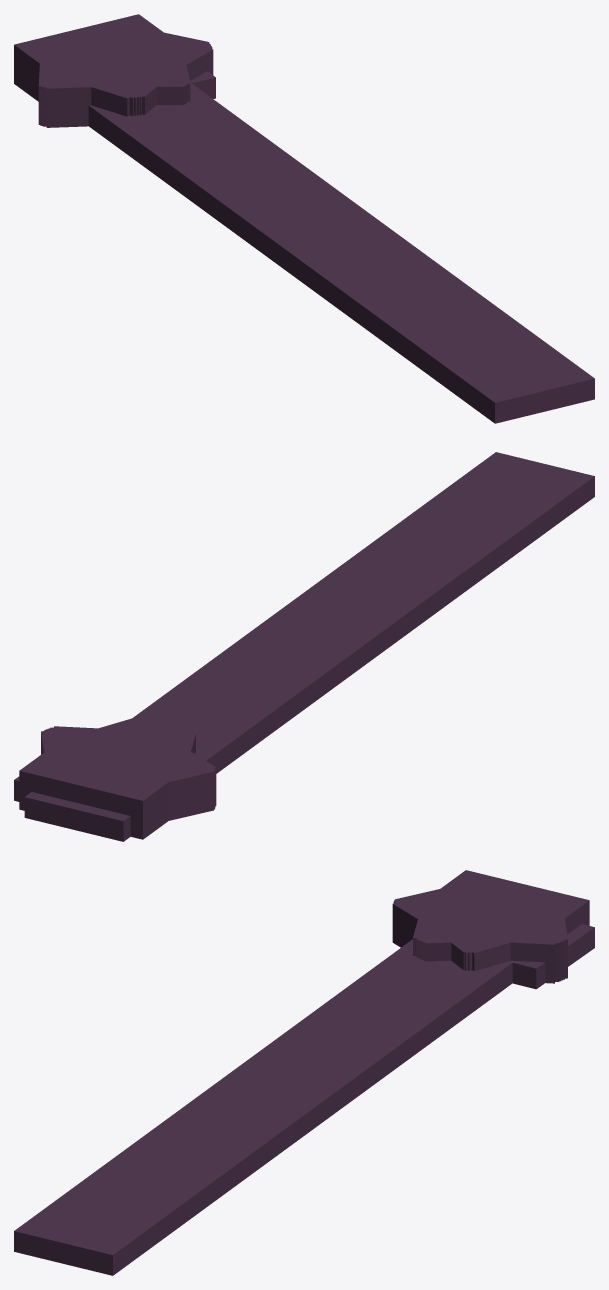
The model's file is GCC-AAV-13220-30(12).fbx.
The picture shows the model from 3 angles, top to bottom: view 1: azimuth 30°, elevation 25°; view 2: azimuth 150°, elevation 25°; view 3: azimuth 330°, elevation 25°; orthographic projection.
Visible parts, largest first — view 1: CTSTRA 1 of CTMTRL 1 of CWBRAN 4 of CWAY /13220-02-5200-EP-0, CTBEND 2 of CTMTRL 1 of CWBRAN 1 of CWAY /13220-02-5200-EM-0, CTBEND 5 of CTMTRL 1 of CWBRAN 1 of CWAY /13220-02-5200-EM-0, CTBEND 1 of CTMTRL 1 of CWBRAN 1 of CWAY /13220-02-5200-EM-0, CTBEND 7 of CTMTRL 1 of CWBRAN 1 of CWAY /13220-02-5200-EM-0, CTSTRA 2 of CTMTRL 1 of CWBRAN 4 of CWAY /13220-02-5200-EP-0, CTBEND 6 of CTMTRL 1 of CWBRAN 1 of CWAY /13220-02-5200-EM-0, CTBEND 6 of CTMTRL 1 of CWBRAN 3 of CWAY /13220-02-5200-EM-0, CTBEND 7 of CTMTRL 1 of CWBRAN 3 of CWAY /13220-02-5200-EM-0, CTBEND 4 of CTMTRL 1 of CWBRAN 1 of CWAY /13220-02-5200-EM-0, CTBEND 3 of CTMTRL 1 of CWBRAN 3 of CWAY /13220-02-5200-EM-0, CTBEND 3 of CTMTRL 1 of CWBRAN 1 of CWAY /13220-02-5200-EM-0; view 2: CTSTRA 1 of CTMTRL 1 of CWBRAN 4 of CWAY /13220-02-5200-EP-0, CTSTRA 2 of CTMTRL 1 of CWBRAN 4 of CWAY /13220-02-5200-EP-0, CTBEND 1 of CTMTRL 1 of CWBRAN 1 of CWAY /13220-02-5200-EM-0, CTBEND 12 of CTMTRL 1 of CWBRAN 1 of CWAY /13220-02-5200-EM-, CTBEND 2 of CTMTRL 1 of CWBRAN 13 of CWAY /13220-02-5200-EP-, CTBEND 4 of CTMTRL 1 of CWBRAN 1 of CWAY /13220-02-5200-EM-0 (×2), CTBEND 3 of CTMTRL 1 of CWBRAN 3 of CWAY /13220-02-5200-EM-0, CTBEND 13 of CTMTRL 1 of CWBRAN 1 of CWAY /13220-02-5200-EM-, CTBEND 6 of CTMTRL 1 of CWBRAN 1 of CWAY /13220-02-5200-EM-0, CTBEND 1 of CTMTRL 1 of CWBRAN 2 of CWAY /13220-02-5200-EM-0, CTBEND 2 of CTMTRL 1 of CWBRAN 1 of CWAY /13220-02-5200-EM-0, CTBEND 5 of CTMTRL 1 of CWBRAN 1 of CWAY /13220-02-5200-EM-0 (+6 smaller); view 3: CTSTRA 1 of CTMTRL 1 of CWBRAN 4 of CWAY /13220-02-5200-EP-0, CTSTRA 2 of CTMTRL 1 of CWBRAN 4 of CWAY /13220-02-5200-EP-0, CTBEND 2 of CTMTRL 1 of CWBRAN 1 of CWAY /13220-02-5200-EM-0, CTBEND 1 of CTMTRL 1 of CWBRAN 1 of CWAY /13220-02-5200-EM-0, CTBEND 5 of CTMTRL 1 of CWBRAN 1 of CWAY /13220-02-5200-EM-0, CTBEND 2 of CTMTRL 1 of CWBRAN 13 of CWAY /13220-02-5200-EP-, CTBEND 6 of CTMTRL 1 of CWBRAN 3 of CWAY /13220-02-5200-EM-0, CTBEND 4 of CTMTRL 1 of CWBRAN 1 of CWAY /13220-02-5200-EM-0, CTBEND 7 of CTMTRL 1 of CWBRAN 3 of CWAY /13220-02-5200-EM-0, CTBEND 6 of CTMTRL 1 of CWBRAN 1 of CWAY /13220-02-5200-EM-0, CTBEND 4 of CTMTRL 1 of CWBRAN 3 of CWAY /13220-02-5200-EM-0, CTBEND 3 of CTMTRL 1 of CWBRAN 1 of CWAY /13220-02-5200-EM-0 (+2 smaller).
Part boxes in pixels (bbox=[...]): CTSTRA 1 of CTMTRL 1 of CWBRAN 4 of CWAY /13220-02-5200-EP-0: bbox=[89, 82, 594, 423]; CTBEND 2 of CTMTRL 1 of CWBRAN 1 of CWAY /13220-02-5200-EM-0: bbox=[14, 14, 184, 100]; CTBEND 5 of CTMTRL 1 of CWBRAN 1 of CWAY /13220-02-5200-EM-0: bbox=[23, 15, 208, 114]; CTBEND 1 of CTMTRL 1 of CWBRAN 1 of CWAY /13220-02-5200-EM-0: bbox=[14, 15, 184, 124]; CTBEND 7 of CTMTRL 1 of CWBRAN 1 of CWAY /13220-02-5200-EM-0: bbox=[14, 14, 185, 125]; CTSTRA 2 of CTMTRL 1 of CWBRAN 4 of CWAY /13220-02-5200-EP-0: bbox=[91, 83, 415, 299]; CTBEND 6 of CTMTRL 1 of CWBRAN 1 of CWAY /13220-02-5200-EM-0: bbox=[14, 16, 211, 115]; CTBEND 6 of CTMTRL 1 of CWBRAN 3 of CWAY /13220-02-5200-EM-0: bbox=[46, 62, 190, 127]; CTBEND 7 of CTMTRL 1 of CWBRAN 3 of CWAY /13220-02-5200-EM-0: bbox=[91, 23, 213, 116]; CTBEND 4 of CTMTRL 1 of CWBRAN 1 of CWAY /13220-02-5200-EM-0: bbox=[16, 19, 184, 104]; CTBEND 3 of CTMTRL 1 of CWBRAN 3 of CWAY /13220-02-5200-EM-0: bbox=[14, 22, 182, 105]; CTBEND 3 of CTMTRL 1 of CWBRAN 1 of CWAY /13220-02-5200-EM-0: bbox=[14, 17, 185, 103]; CTSTRA 1 of CTMTRL 1 of CWBRAN 4 of CWAY /13220-02-5200-EP-0: bbox=[132, 452, 594, 770]; CTSTRA 2 of CTMTRL 1 of CWBRAN 4 of CWAY /13220-02-5200-EP-0: bbox=[135, 581, 427, 773]; CTBEND 1 of CTMTRL 1 of CWBRAN 1 of CWAY /13220-02-5200-EM-0: bbox=[19, 733, 198, 839]; CTBEND 12 of CTMTRL 1 of CWBRAN 1 of CWAY /13220-02-5200-EM-: bbox=[19, 729, 188, 838]; CTBEND 2 of CTMTRL 1 of CWBRAN 13 of CWAY /13220-02-5200-EP-: bbox=[14, 776, 130, 841]; CTBEND 4 of CTMTRL 1 of CWBRAN 1 of CWAY /13220-02-5200-EM-0 (×2): bbox=[40, 723, 213, 835]; CTBEND 3 of CTMTRL 1 of CWBRAN 3 of CWAY /13220-02-5200-EM-0: bbox=[143, 720, 213, 825]; CTBEND 13 of CTMTRL 1 of CWBRAN 1 of CWAY /13220-02-5200-EM-: bbox=[40, 729, 186, 837]; CTBEND 6 of CTMTRL 1 of CWBRAN 1 of CWAY /13220-02-5200-EM-0: bbox=[20, 727, 189, 813]; CTBEND 1 of CTMTRL 1 of CWBRAN 2 of CWAY /13220-02-5200-EM-0: bbox=[99, 718, 213, 793]; CTBEND 2 of CTMTRL 1 of CWBRAN 1 of CWAY /13220-02-5200-EM-0: bbox=[19, 724, 204, 828]; CTBEND 5 of CTMTRL 1 of CWBRAN 1 of CWAY /13220-02-5200-EM-0: bbox=[19, 727, 186, 812]; CTSTRA 1 of CTMTRL 1 of CWBRAN 4 of CWAY /13220-02-5200-EP-0: bbox=[14, 939, 513, 1275]; CTSTRA 2 of CTMTRL 1 of CWBRAN 4 of CWAY /13220-02-5200-EP-0: bbox=[181, 939, 512, 1153]; CTBEND 2 of CTMTRL 1 of CWBRAN 1 of CWAY /13220-02-5200-EM-0: bbox=[395, 870, 588, 970]; CTBEND 1 of CTMTRL 1 of CWBRAN 1 of CWAY /13220-02-5200-EM-0: bbox=[395, 871, 589, 970]; CTBEND 5 of CTMTRL 1 of CWBRAN 1 of CWAY /13220-02-5200-EM-0: bbox=[420, 870, 587, 978]; CTBEND 2 of CTMTRL 1 of CWBRAN 13 of CWAY /13220-02-5200-EP-: bbox=[508, 924, 594, 989]; CTBEND 6 of CTMTRL 1 of CWBRAN 3 of CWAY /13220-02-5200-EM-0: bbox=[392, 903, 571, 971]; CTBEND 4 of CTMTRL 1 of CWBRAN 1 of CWAY /13220-02-5200-EM-0: bbox=[396, 875, 588, 951]; CTBEND 7 of CTMTRL 1 of CWBRAN 3 of CWAY /13220-02-5200-EM-0: bbox=[413, 877, 589, 983]; CTBEND 6 of CTMTRL 1 of CWBRAN 1 of CWAY /13220-02-5200-EM-0: bbox=[416, 871, 588, 981]; CTBEND 4 of CTMTRL 1 of CWBRAN 3 of CWAY /13220-02-5200-EM-0: bbox=[401, 872, 578, 970]; CTBEND 3 of CTMTRL 1 of CWBRAN 1 of CWAY /13220-02-5200-EM-0: bbox=[394, 877, 589, 952].
Size of the model in its own units: 27.17 by 5.91 by 130.
